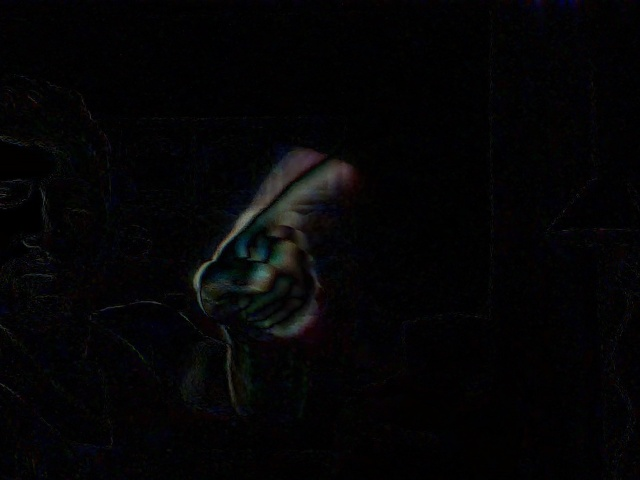hand_po: (188, 140, 359, 342)
